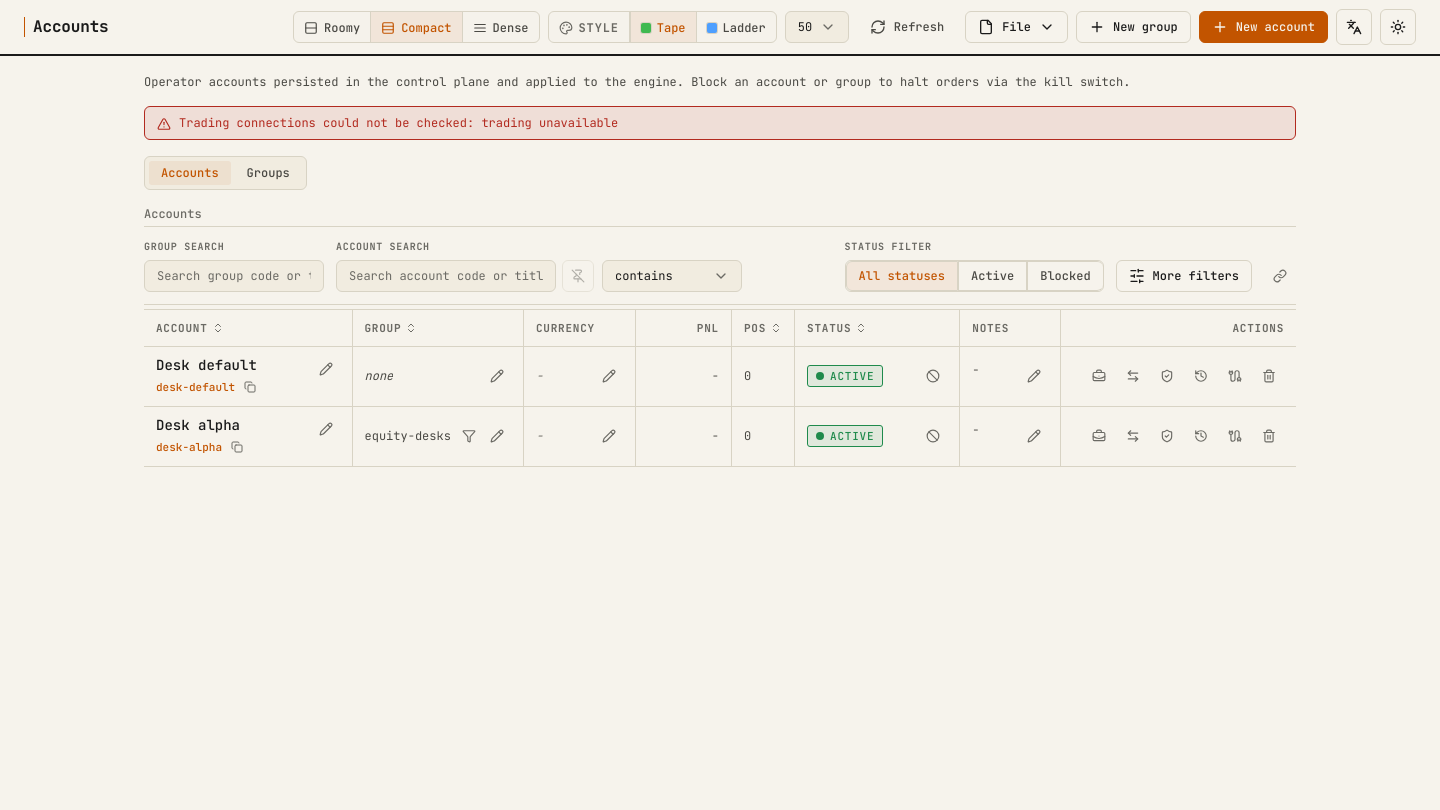
Test: DeleteAccountConfirm › says trading connections are unknown while trading is error
Click the button named "Delete desk-alpha".
click(1269, 436)  # box [1254,421,1284,451]
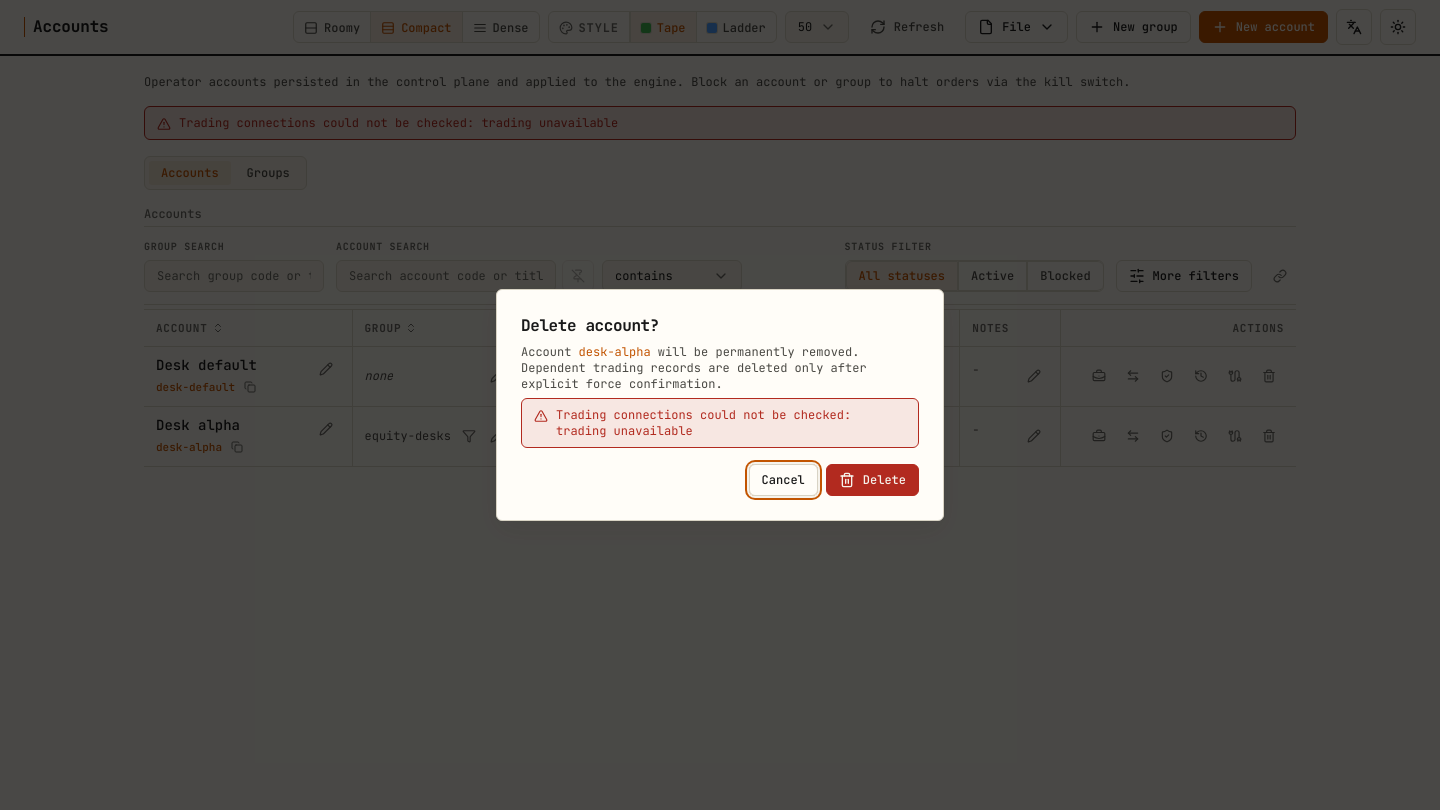
Check: the message reads "Trading connections could not be checked: trading unavailable", box [556,407,851,439]
Check: the button "Delete" is enabled, box [826,464,919,496]
